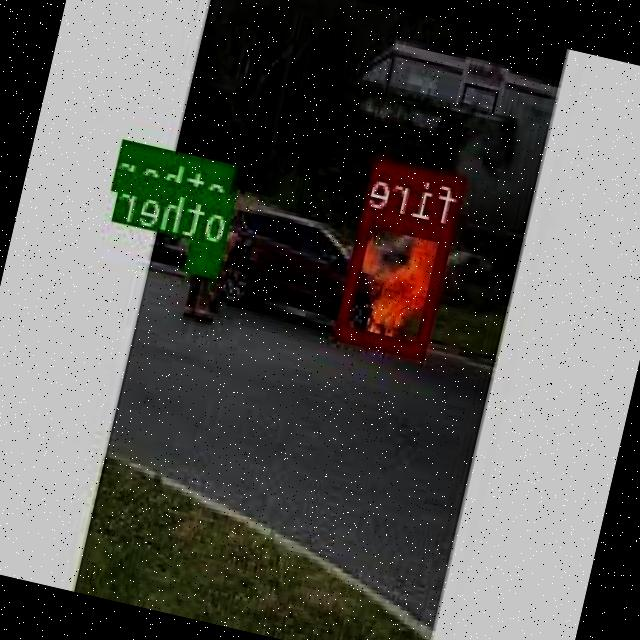fire: (336, 206, 456, 357)
